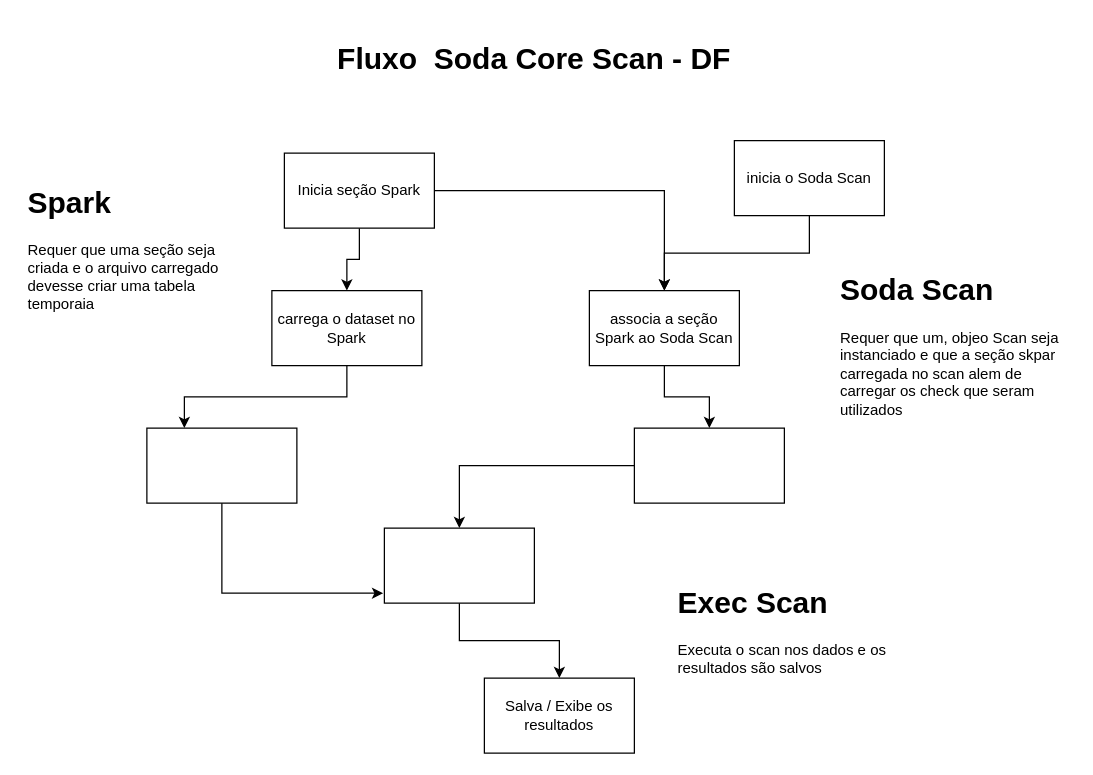
This 1093x775 diagram has some shape labels left out. The shapes that lost their labels are listed below. From the top down, each one's centre as x and y in pixels, then its label:
the point at 221,465: Cria uma tabela temporaria
the point at 708,465: Carrega o arquivo de checks
the point at 458,565: executa o scan
